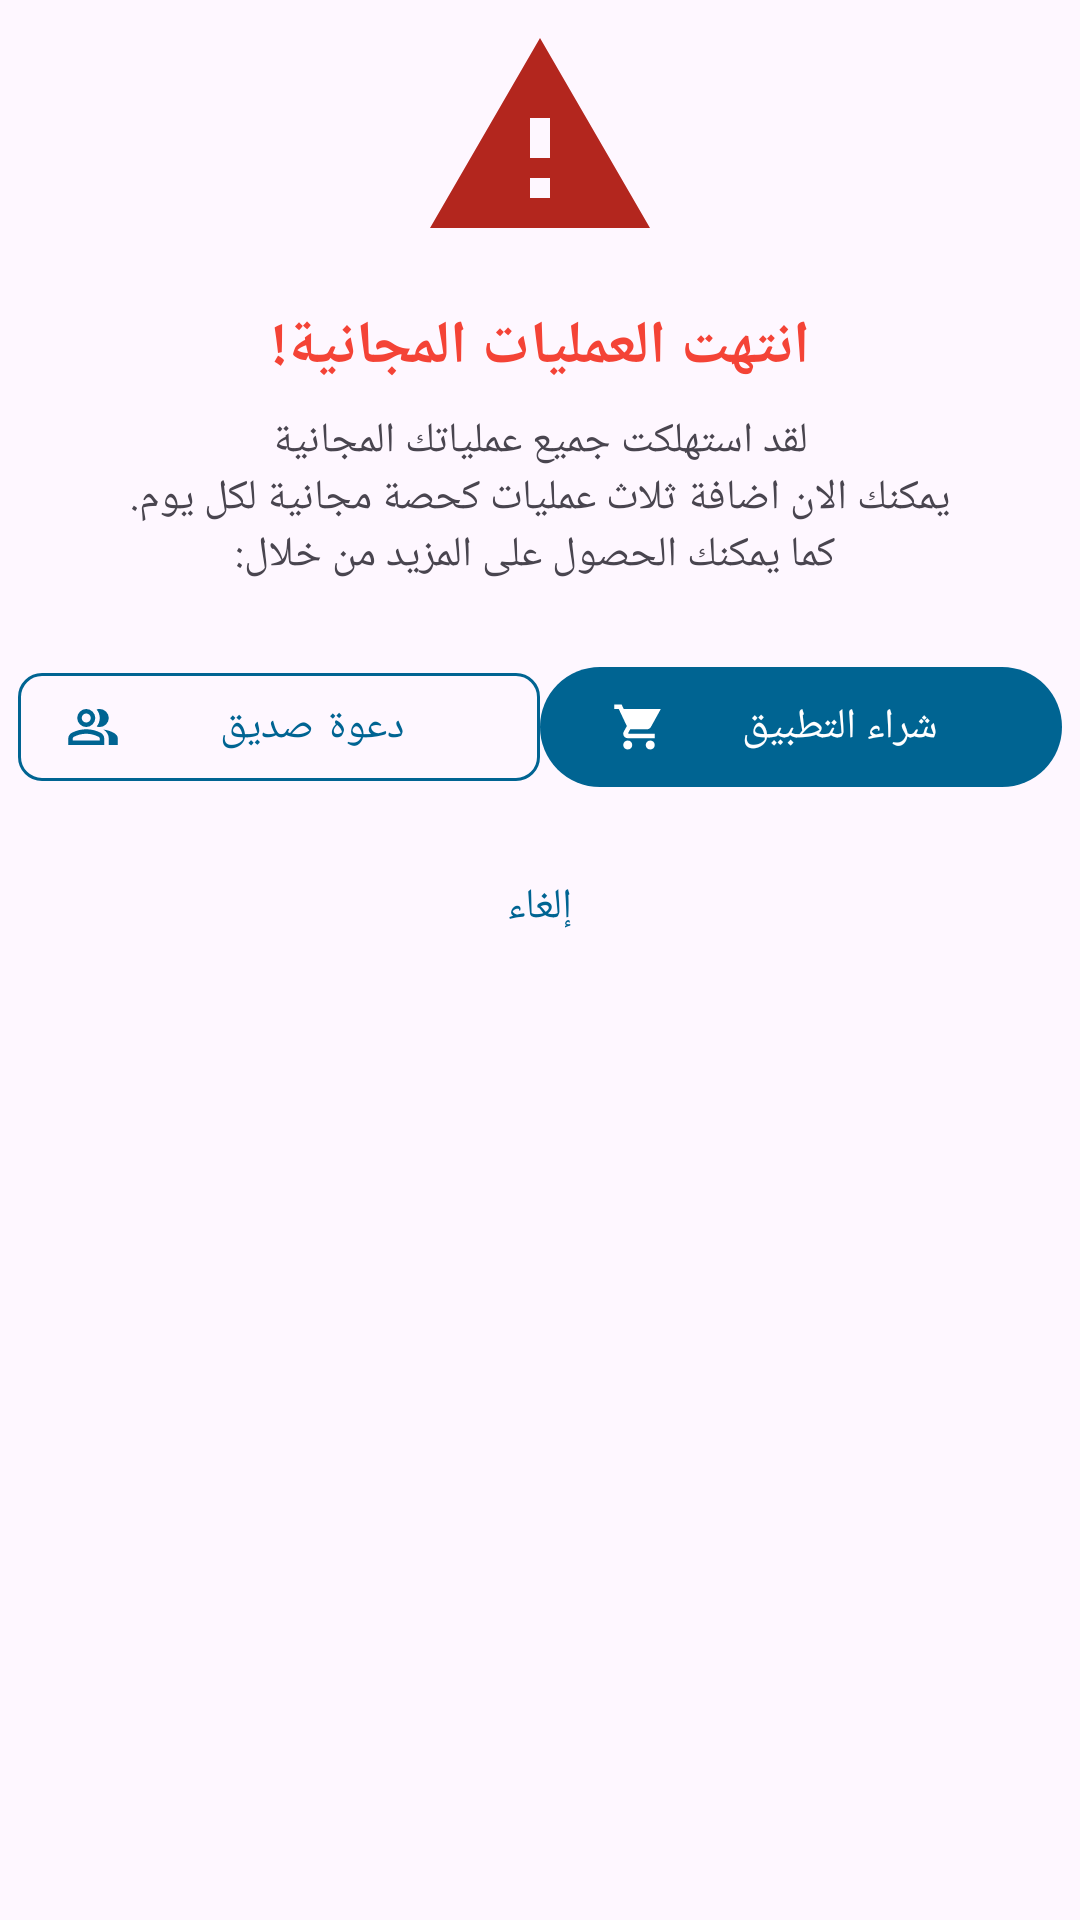

Locate icon controls on the screen. Image size 1080w x 1920h, boxes as BBox(x1, y1, x2, y2).
alert: BBox(430, 38, 650, 228)
